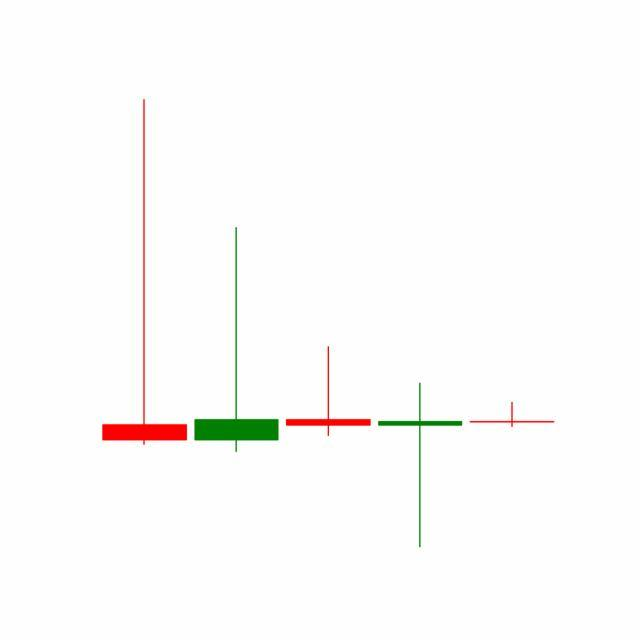Spinning Top: (466, 402, 559, 429)
